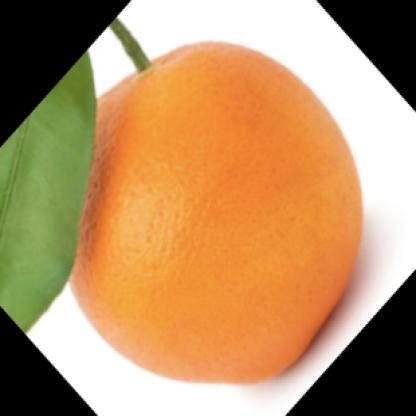fresh: (18, 41, 360, 388)
